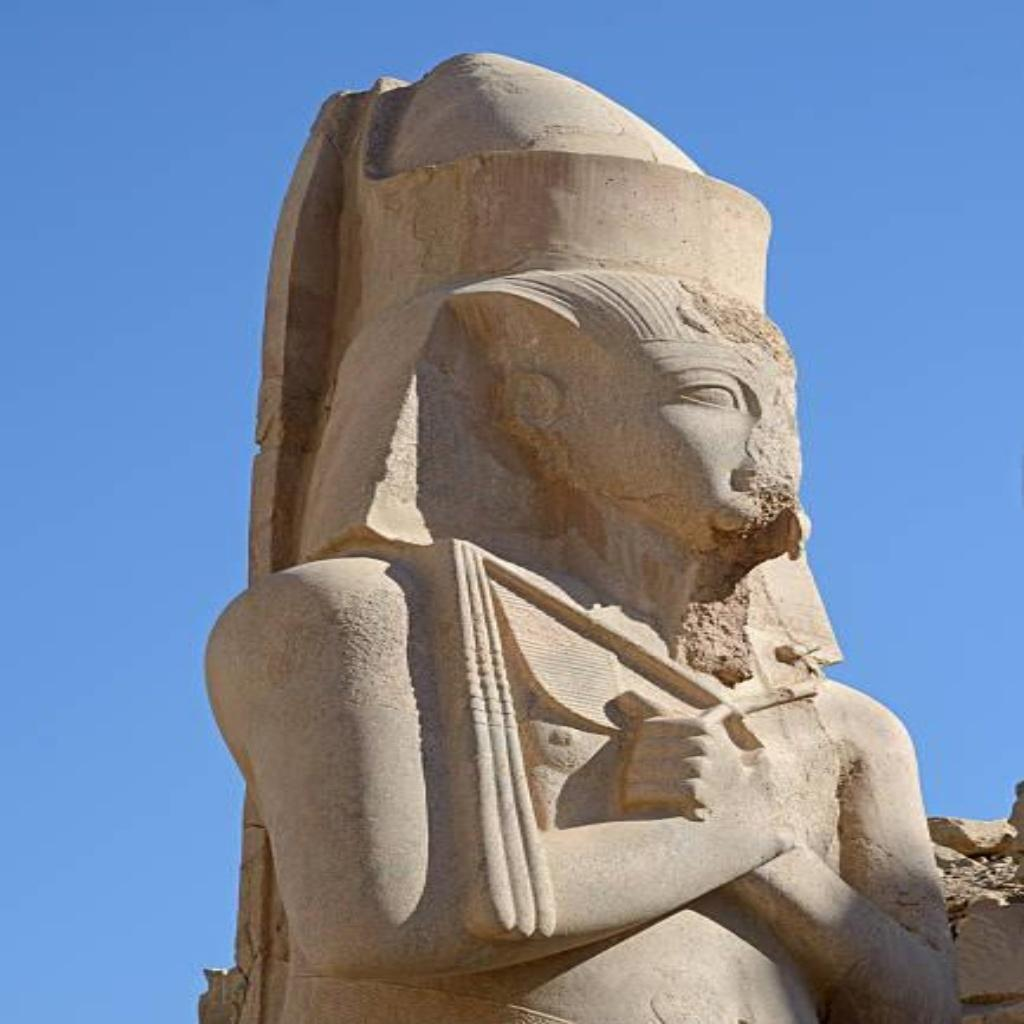Standing Statue of King Ramses II: (194, 48, 967, 1020)
